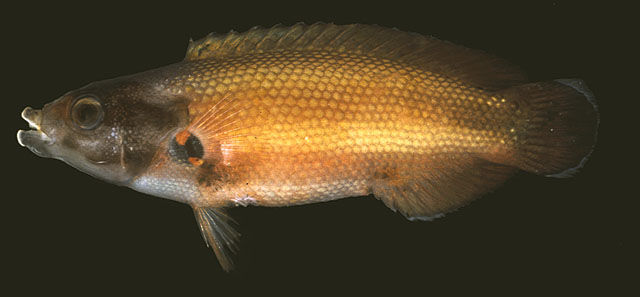fish: (16, 20, 602, 275)
